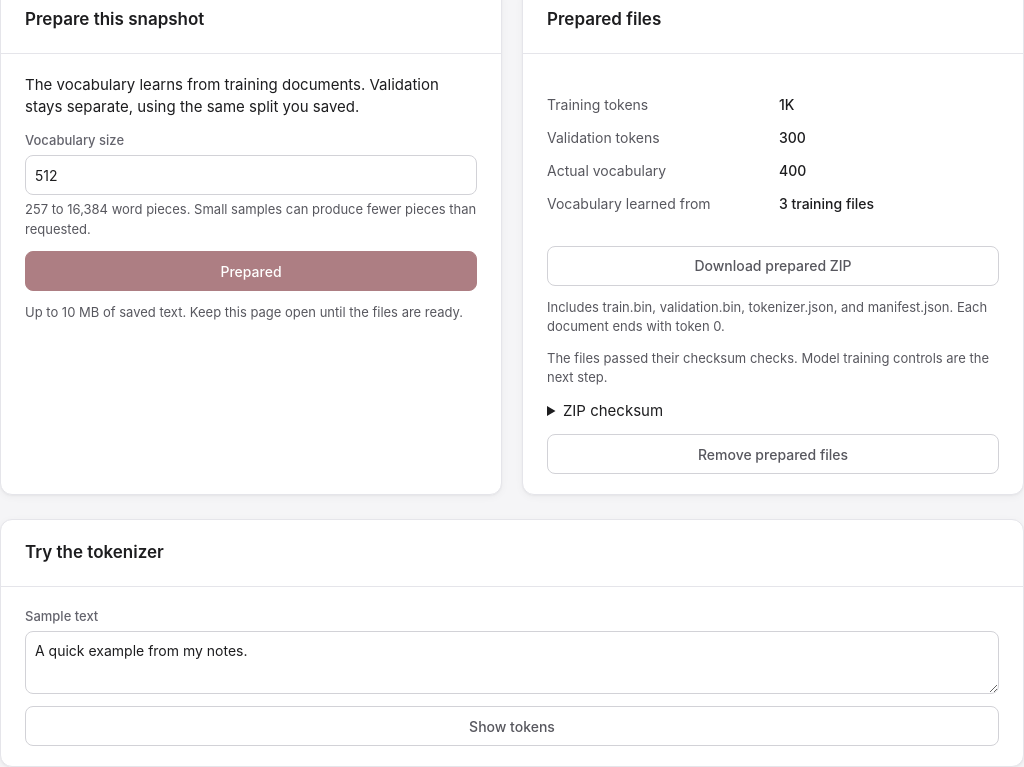
it: shows tokens from the saved vocabulary
The width and height of the screenshot is (1024, 767).
(page scrolled)
expect the number field labelled "Vocabulary size" holds "512": met, box left=25, top=155, right=477, bottom=195
Replace the text in the text box labelled "Sample text" with "Hello world" at (512, 662), box left=25, top=631, right=999, bottom=694
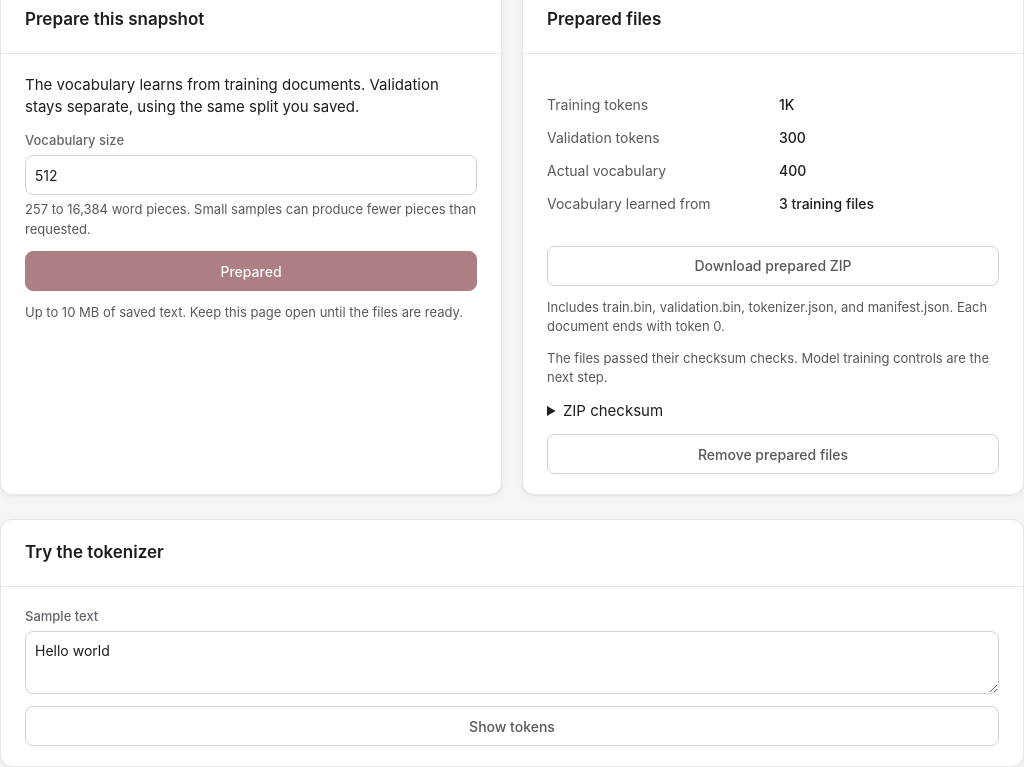
Click the button "Show tokens" at (512, 726), box left=25, top=706, right=999, bottom=746
(page scrolled)
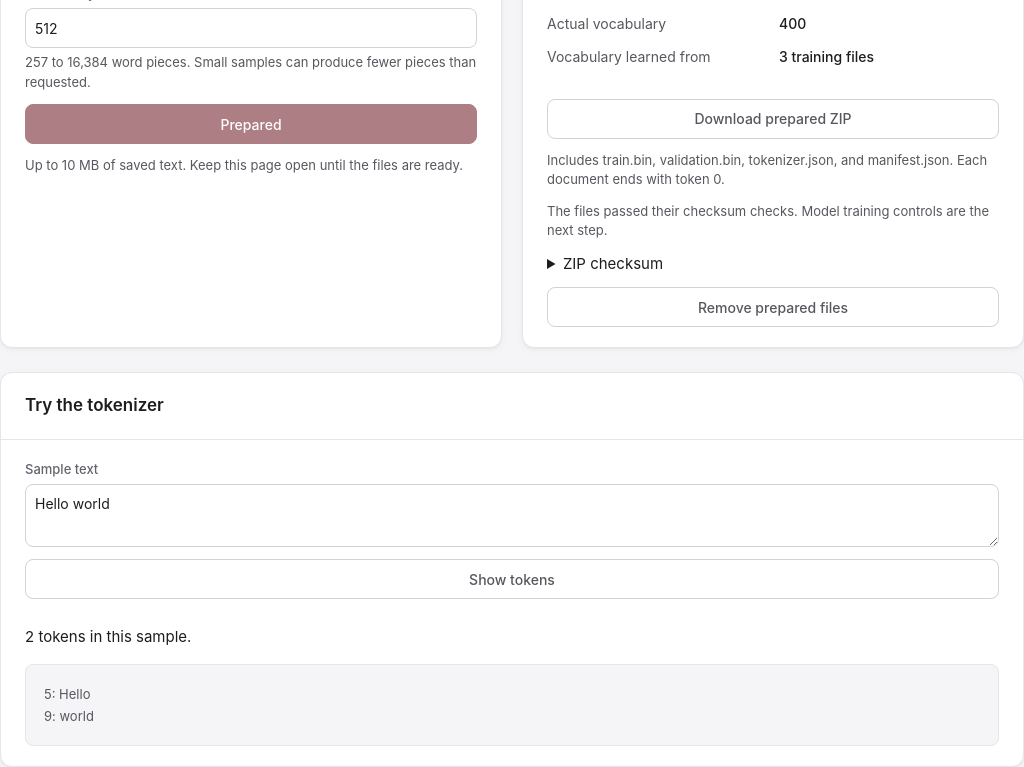
expect the text "2 tokens in this sample." is shown: met, box left=25, top=627, right=191, bottom=646
